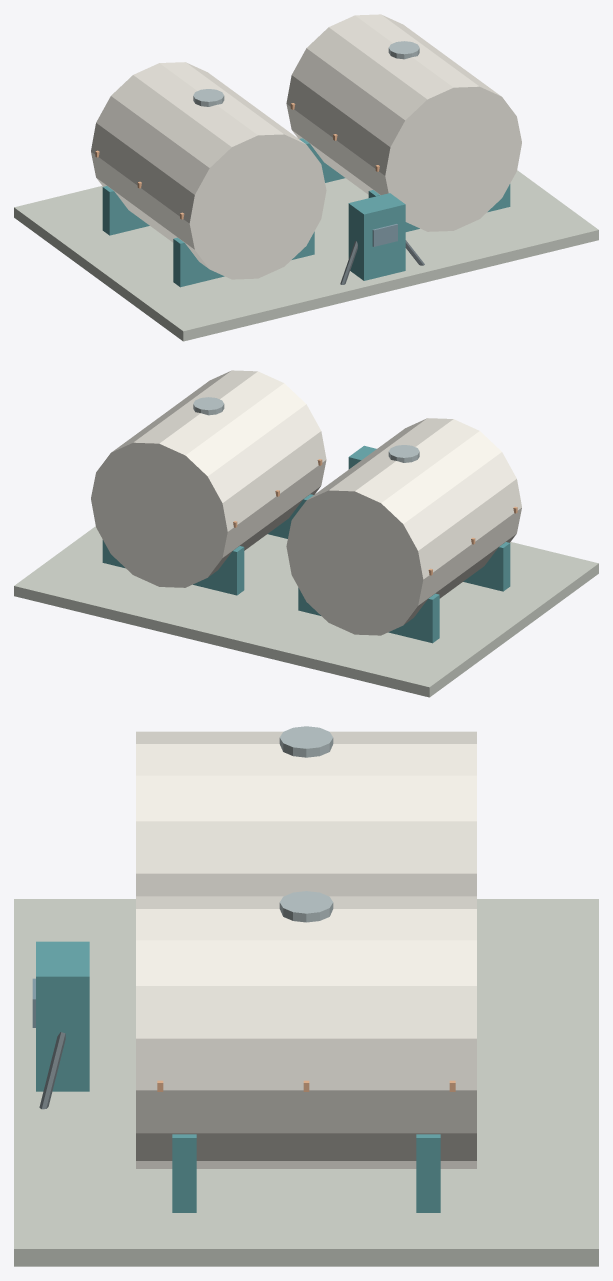
Rendered from branch_depot.glb.
3 views of the same model, one above another, from view 1: azimuth 30°, elevation 25°; view 2: azimuth 150°, elevation 25°; view 3: azimuth 270°, elevation 25° (orthographic). The views are drawn at different scales.
Parts seen in each view (by area): view 1: branch_depot__fuel_tank, branch_depot__fuel_tank.001, branch_depot__tank_pad, branch_depot__pump, branch_depot__tank_saddle, branch_depot__tank_saddle.001, branch_depot__top_hatch, branch_depot__top_hatch.001, branch_depot__meter; view 2: branch_depot__tank_pad, branch_depot__fuel_tank, branch_depot__fuel_tank.001, branch_depot__tank_saddle.003, branch_depot__tank_saddle.001, branch_depot__tank_saddle, branch_depot__top_hatch, branch_depot__top_hatch.001; view 3: branch_depot__tank_pad, branch_depot__fuel_tank.001, branch_depot__fuel_tank, branch_depot__pump, branch_depot__tank_saddle.002, branch_depot__tank_saddle.003, branch_depot__top_hatch.001, branch_depot__top_hatch, branch_depot__hose.001.
Boxes of the visible parts, x1,y1,x2,y2 form: branch_depot__fuel_tank: (91,62,326,279); branch_depot__fuel_tank.001: (286,14,521,231); branch_depot__tank_pad: (14,170,598,341); branch_depot__pump: (348,193,405,280); branch_depot__tank_saddle: (173,231,314,287); branch_depot__tank_saddle.001: (102,186,149,235); branch_depot__top_hatch: (193,89,224,106); branch_depot__top_hatch.001: (388,41,419,59); branch_depot__meter: (372,224,397,246); branch_depot__tank_pad: (14,526,598,697); branch_depot__fuel_tank: (286,418,521,635); branch_depot__fuel_tank.001: (91,370,326,587); branch_depot__tank_saddle.003: (102,540,244,595); branch_depot__tank_saddle.001: (298,587,439,643); branch_depot__tank_saddle: (463,542,510,591); branch_depot__top_hatch: (388,445,419,462); branch_depot__top_hatch.001: (193,397,224,415); branch_depot__tank_pad: (14,899,598,1266); branch_depot__fuel_tank.001: (136,896,476,1168); branch_depot__fuel_tank: (136,731,476,896); branch_depot__pump: (36,941,89,1091); branch_depot__tank_saddle.002: (172,1134,196,1212); branch_depot__tank_saddle.003: (416,1134,440,1212); branch_depot__top_hatch.001: (279,891,333,922); branch_depot__top_hatch: (279,726,333,757); branch_depot__hose.001: (39,1032,65,1109).
Size of the model in its own units: 17 by 6.15 by 12.
